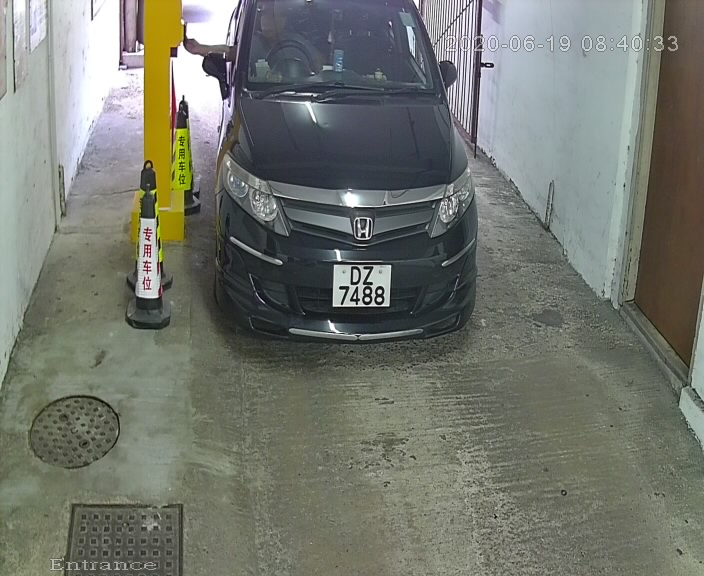bottom_left_lp: (331, 302, 337, 306)
bottom_left_windshield: (285, 232, 303, 248), (234, 80, 252, 93)
bottom_right_lp: (384, 301, 392, 308)
bottom_right_windshield: (419, 86, 440, 99), (414, 235, 431, 244)
brand: (349, 213, 377, 241)
left_headlight: (220, 150, 293, 240)
right_headlight: (424, 163, 483, 239)
top_left_lp: (331, 260, 340, 271)
top_left_radiator: (269, 188, 280, 198)
top_left_windshield: (244, 4, 260, 13)
top_right_lp: (388, 260, 393, 271)
top_right_radiator: (434, 191, 441, 206)
top_right_windshield: (405, 3, 422, 16)
